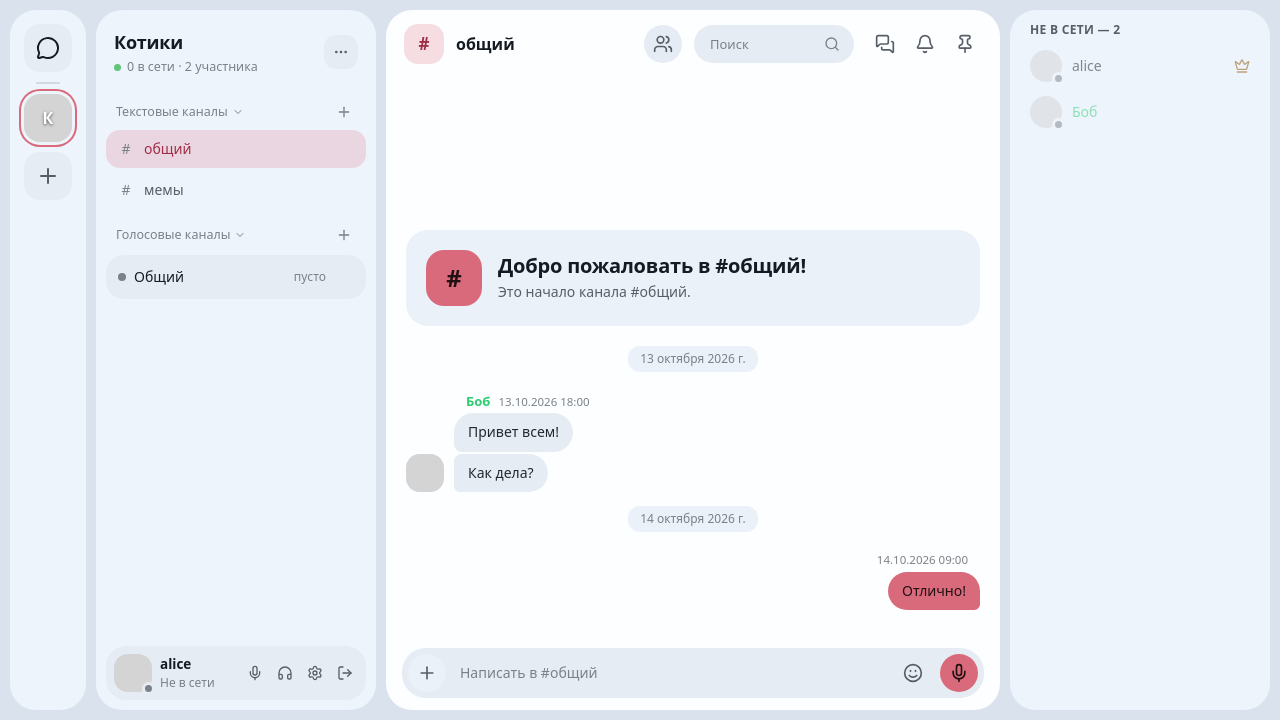
Test: pins panel › lists pinned messages and jumps to one
This screenshot has width=1280, height=720.
Expected: the text "Как дела?" is shown, [468, 463, 534, 483]
Step 1. Click the button named "Закреплённые сообщения" → (965, 44), box [946, 25, 984, 63]
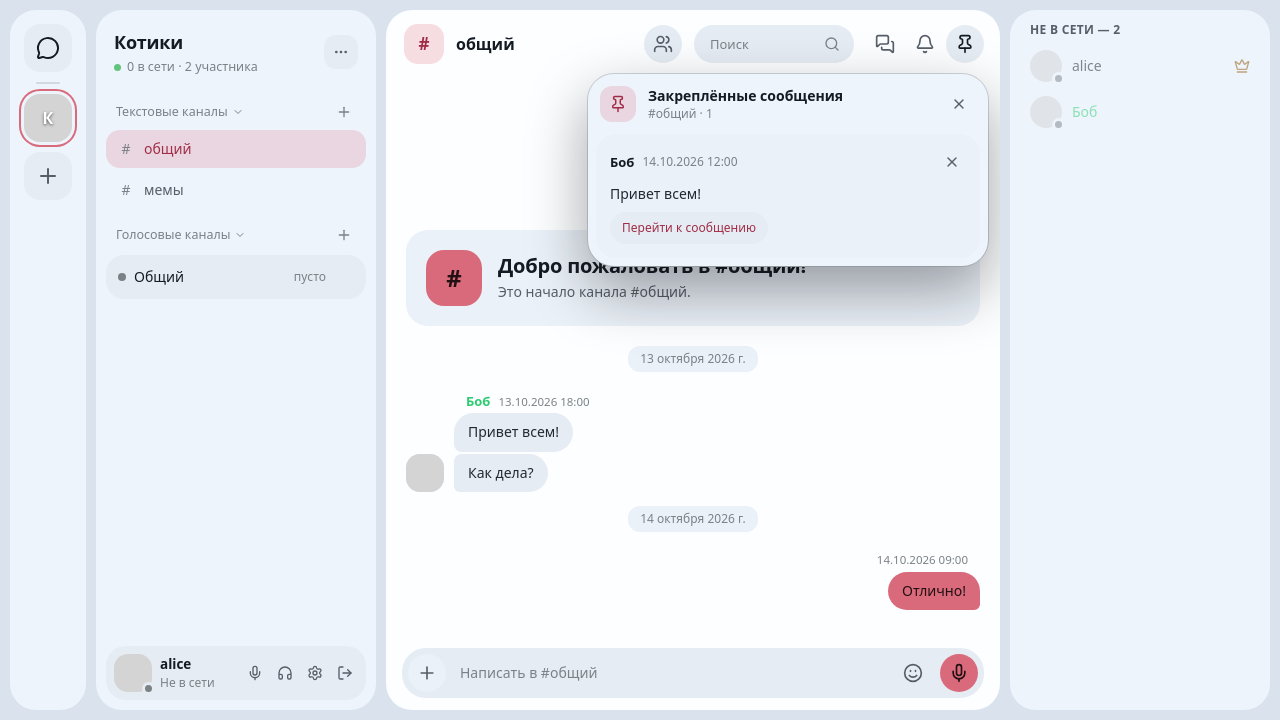
Expected: the text "Привет всем!" is shown, [610, 184, 701, 203]
Step 2. Click the button "Перейти к сообщению" → (689, 228), box [610, 212, 768, 244]
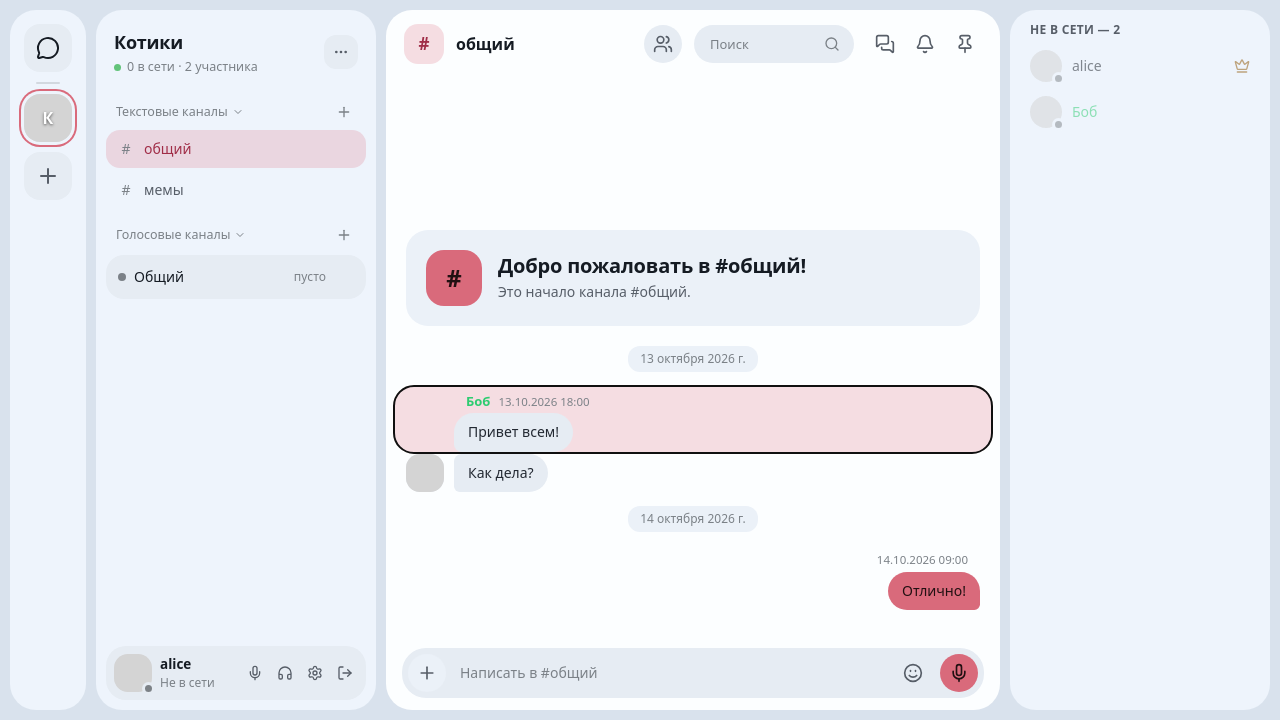
Expected: the heading "Закреплённые сообщения" is gone
